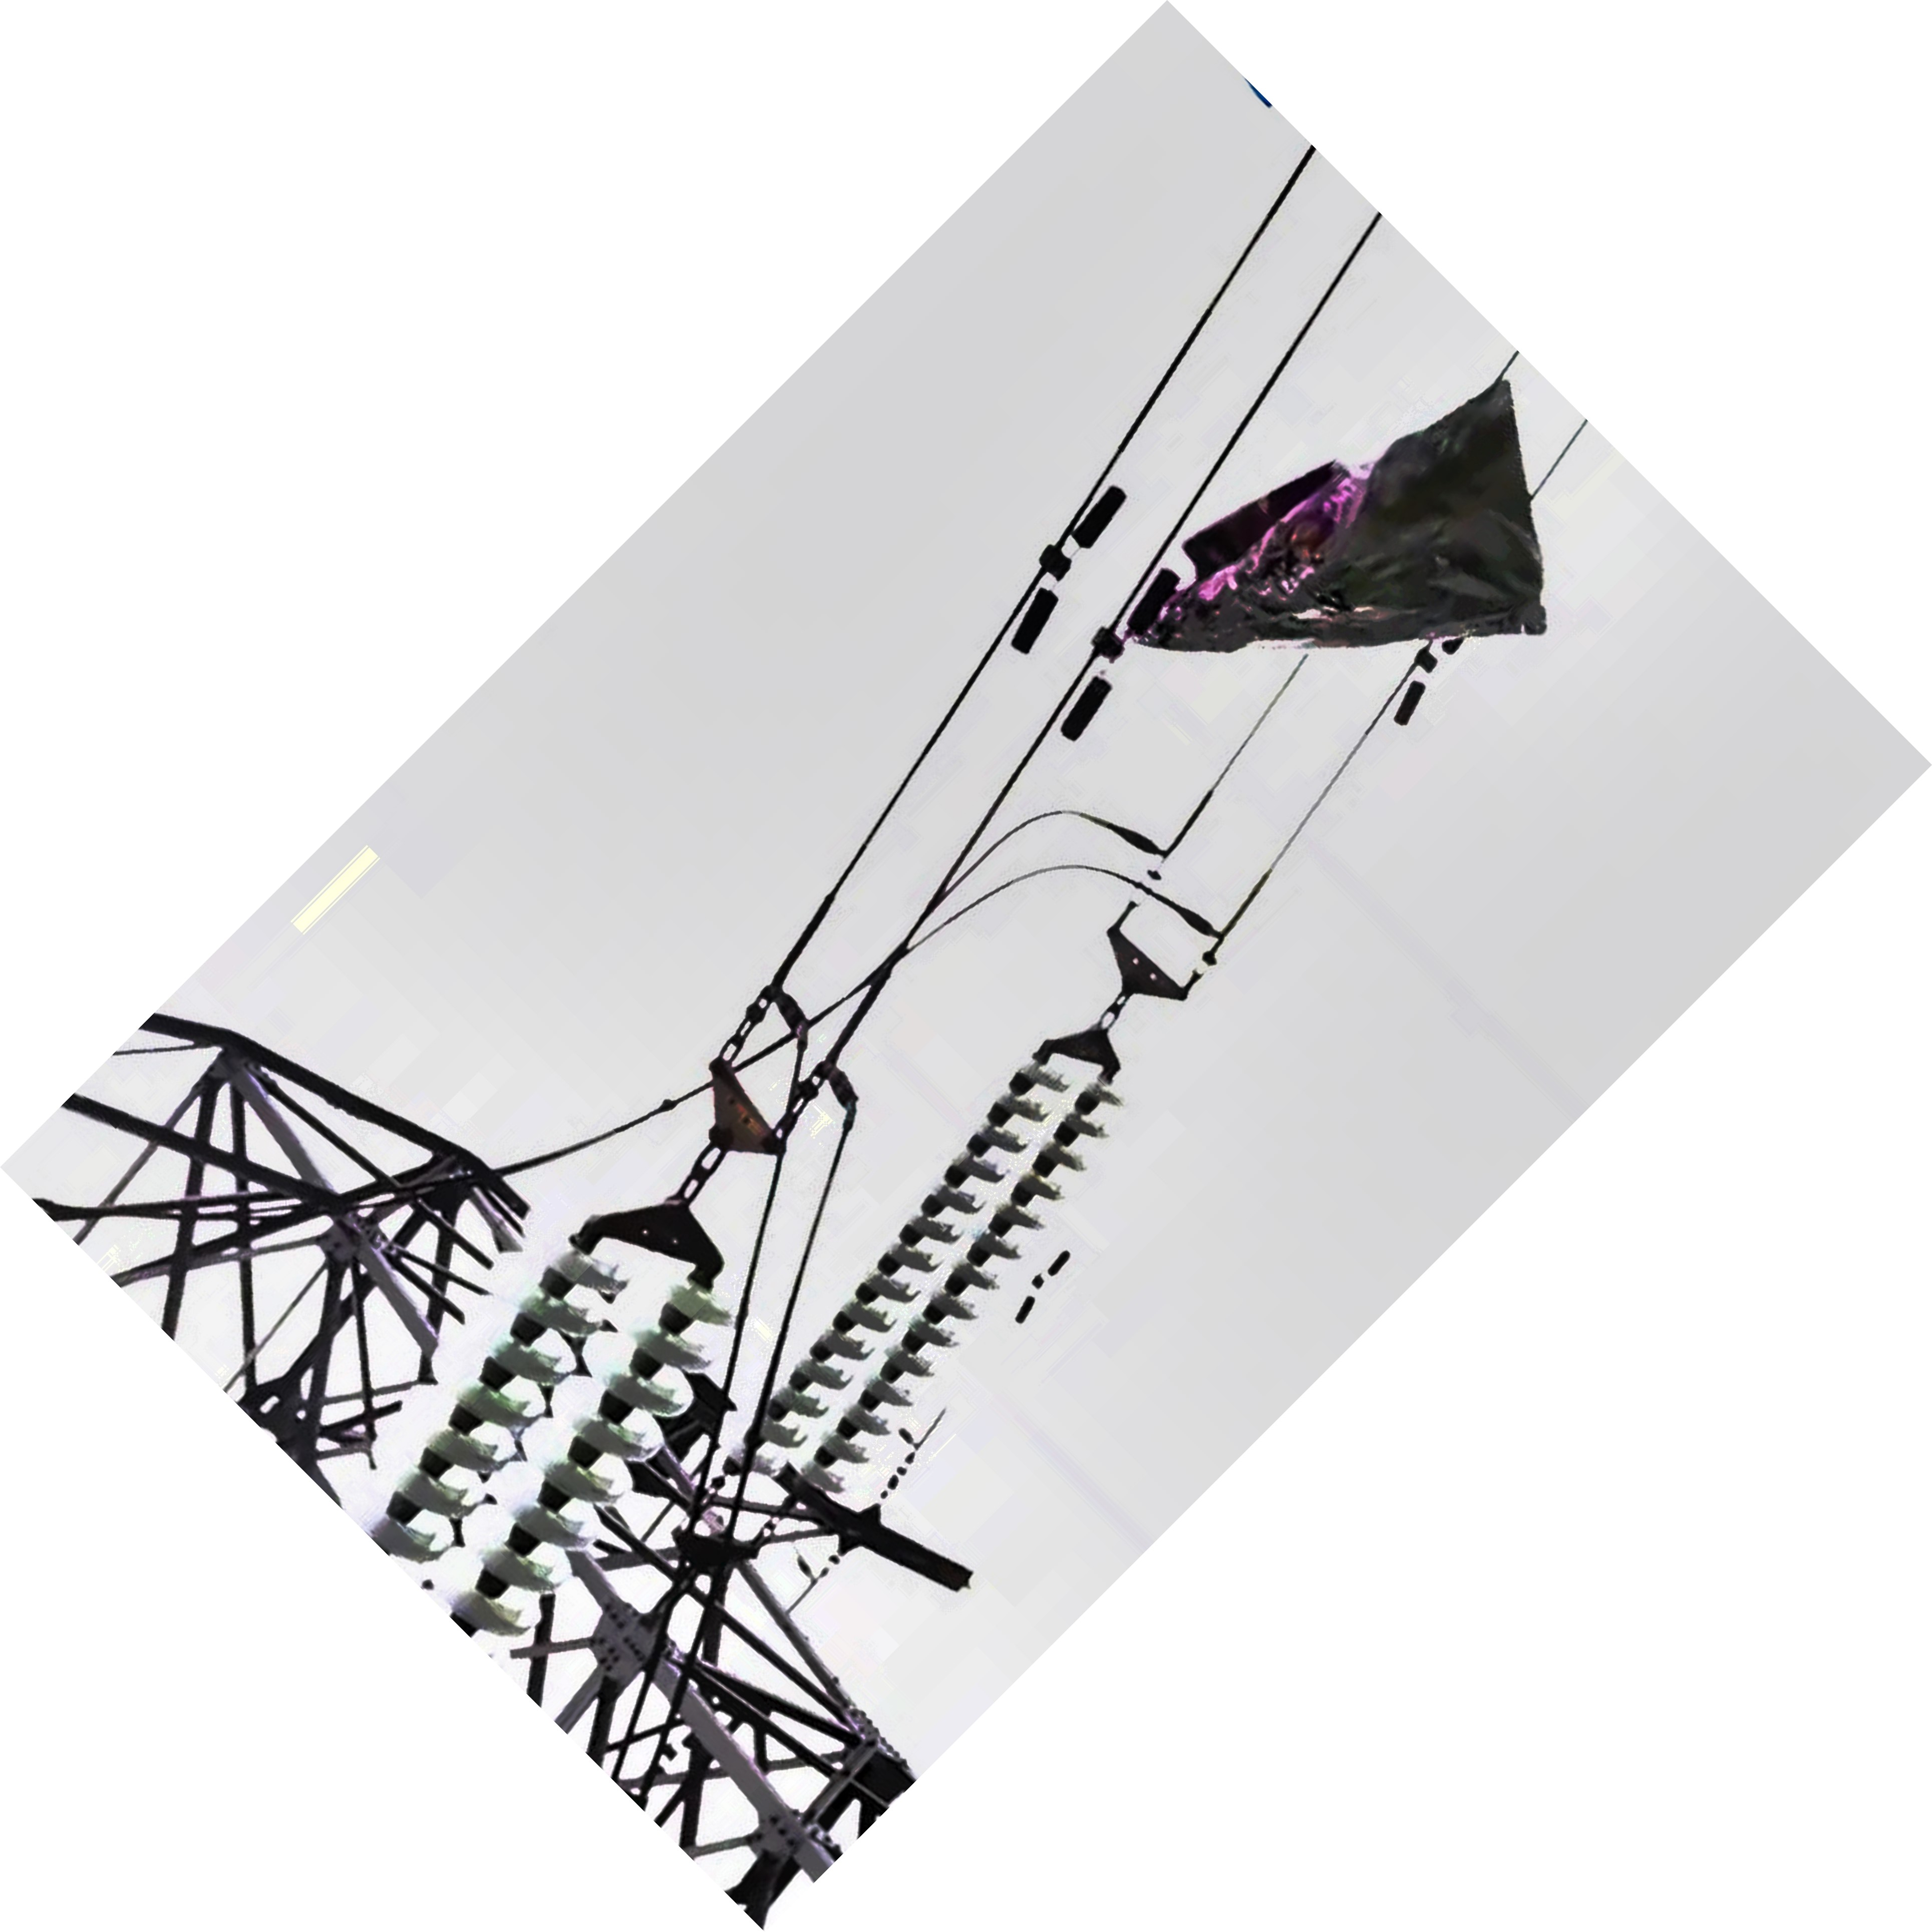wire foreign body: (1086, 356, 1573, 656)
